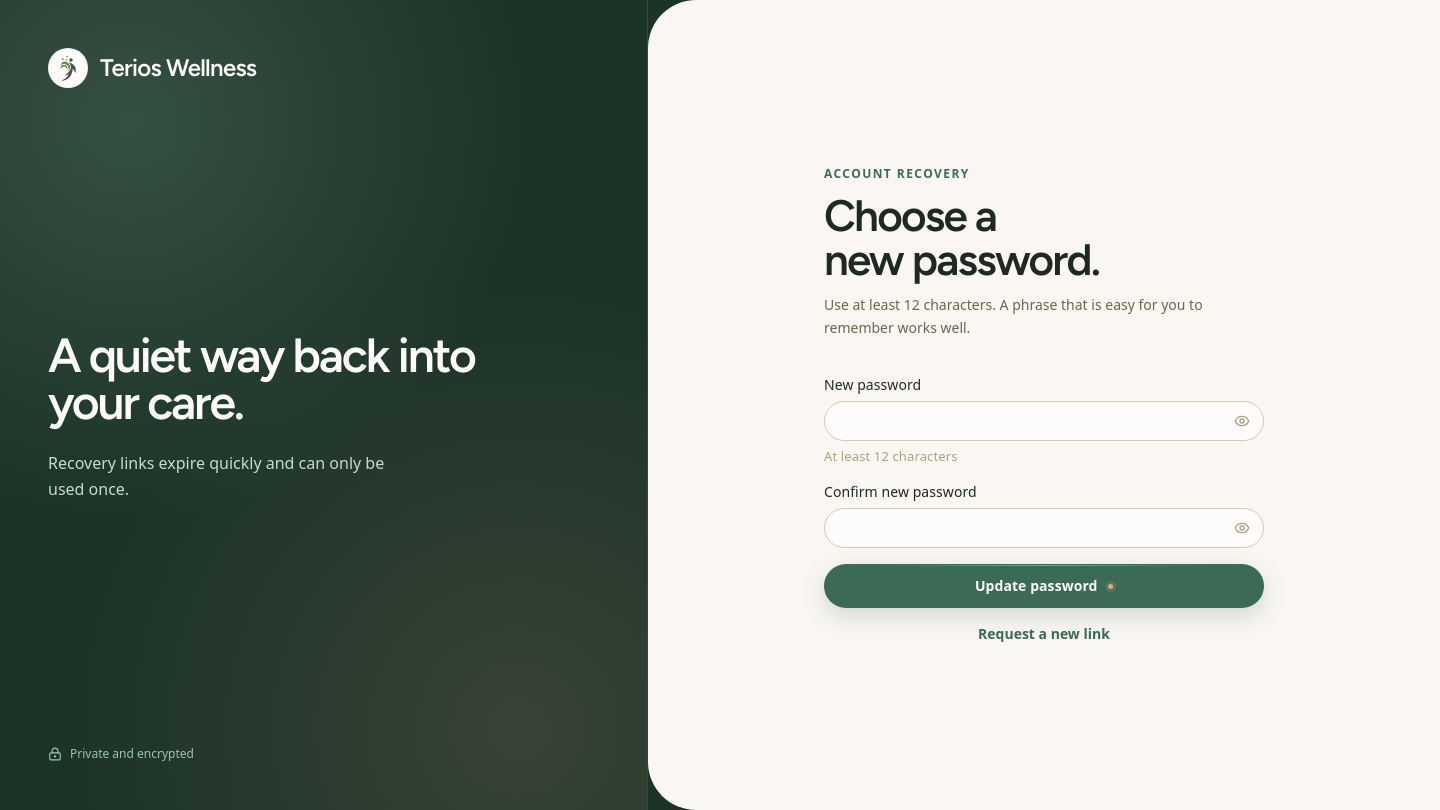
client password reset › sends the token from the link with the new password
This screenshot has width=1440, height=810.
Type "a sufficiently long password" into the password field labelled "New password" at (1044, 421), box [824,401,1264,441]
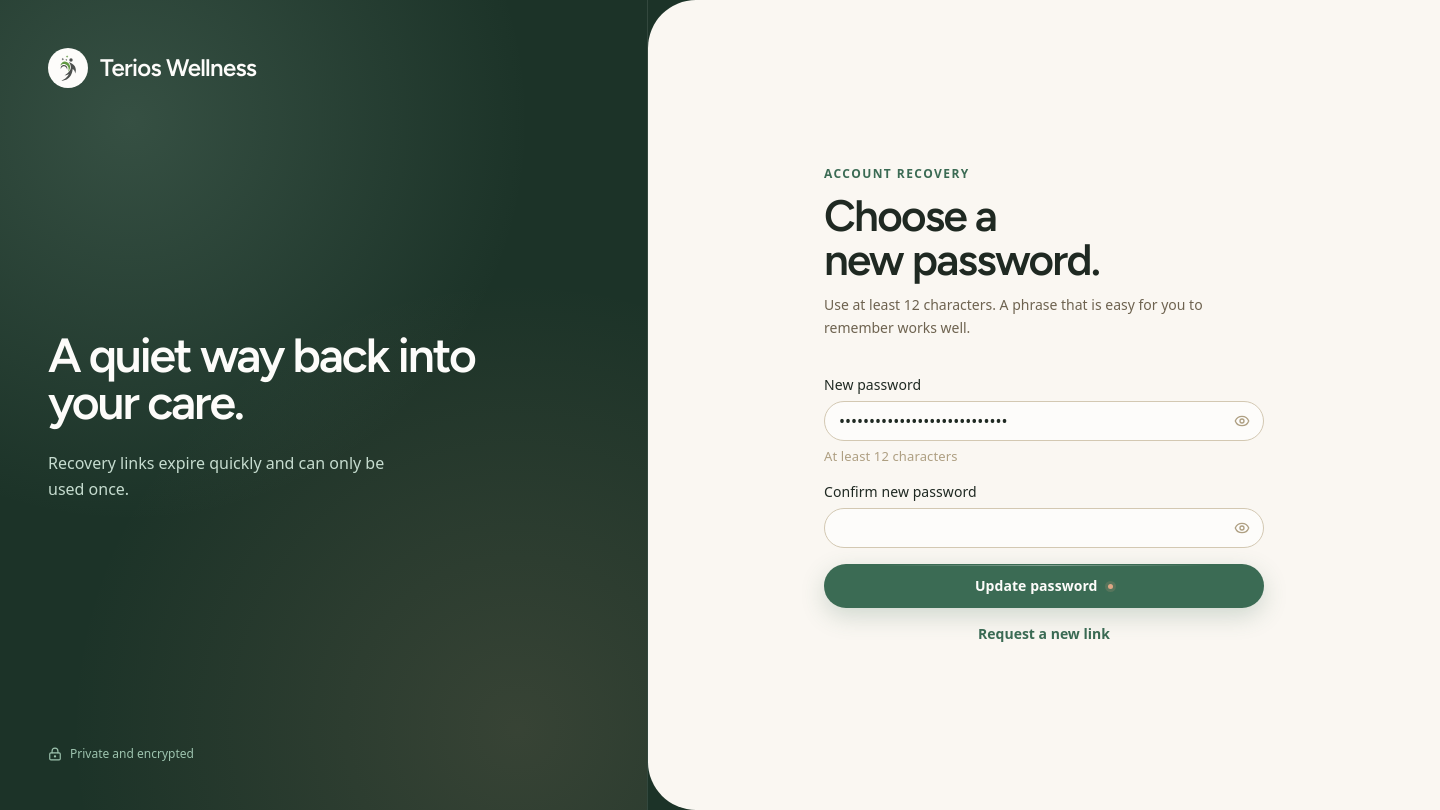
Type "a sufficiently long password" into the password field labelled "Confirm new password" at (1044, 528), box [824,508,1264,548]
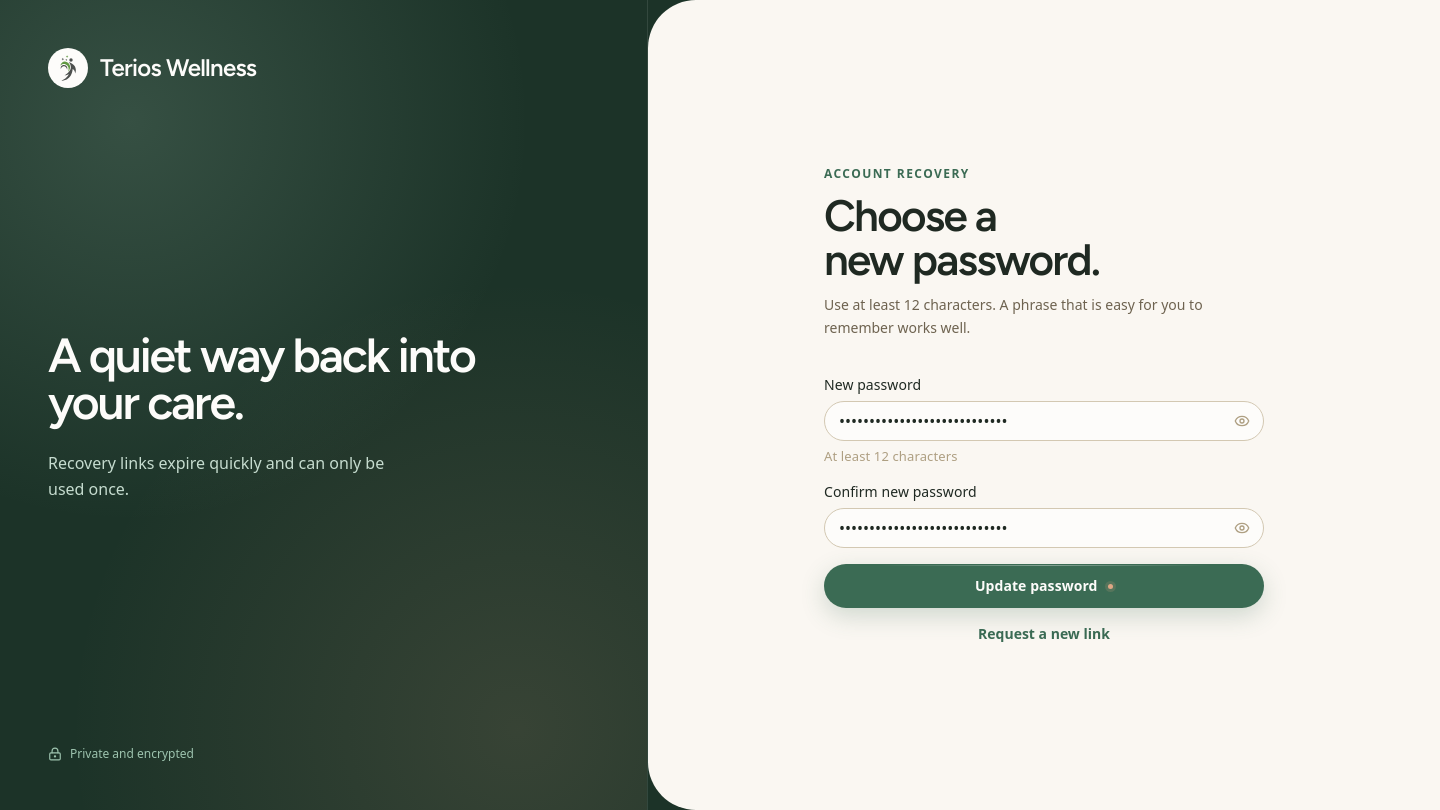
Click the button "Update password" at (1044, 586), box [824,564,1264,608]
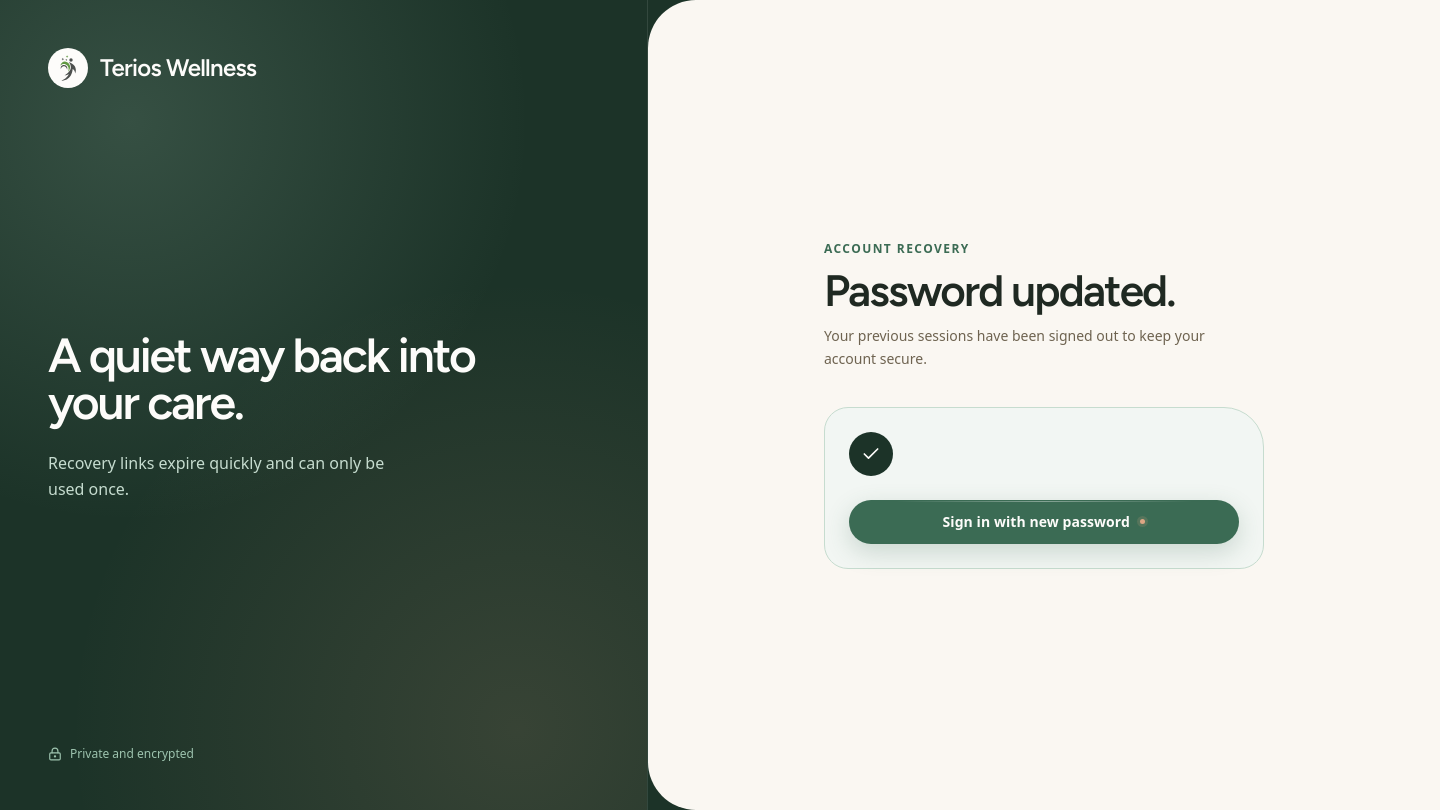
Expected: the heading "Password updated." is shown, [824,264,1175,317]
Expected: the text "previous sessions have been signed out" is shown, [824,326,1205,368]
